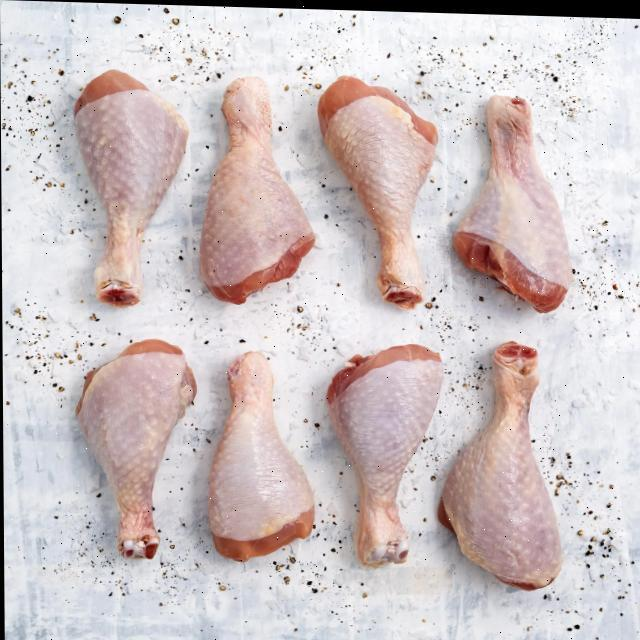leg: (444, 334, 560, 583), (69, 64, 189, 304), (324, 77, 440, 314), (198, 74, 316, 300), (457, 89, 575, 308), (76, 339, 190, 563), (340, 344, 430, 576), (216, 349, 316, 552)
